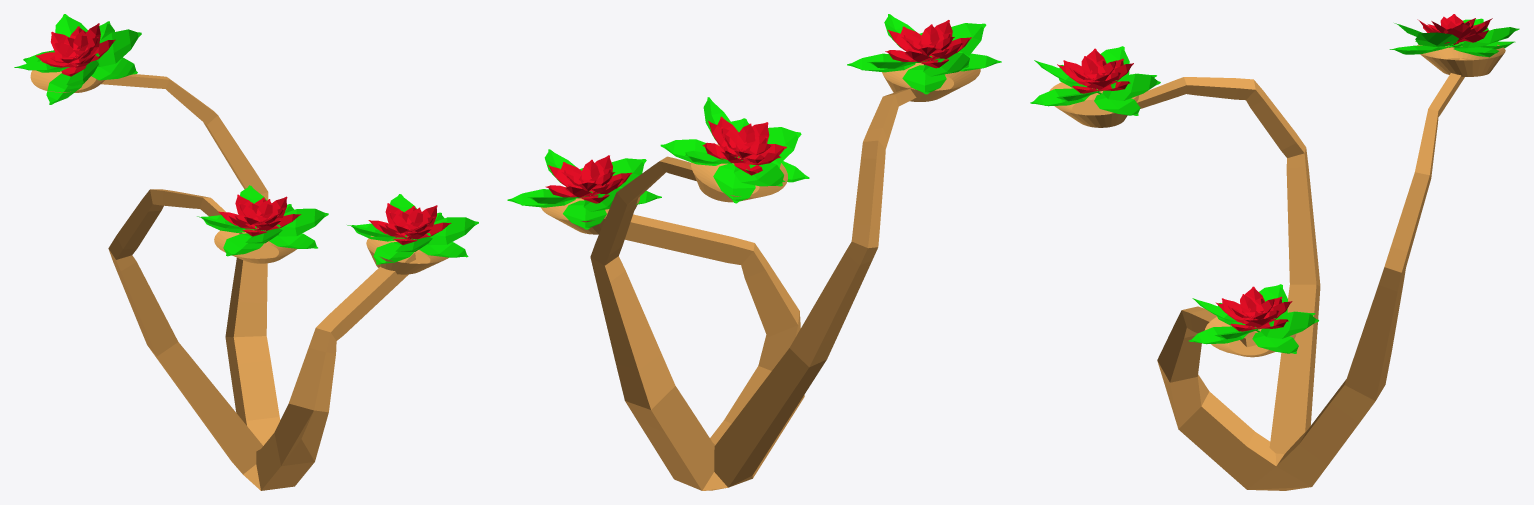
The model's file is Melaleuka skrętolistna.fbx.
The picture shows the model from 3 angles, left to right: view 1: azimuth 30°, elevation 25°; view 2: azimuth 150°, elevation 25°; view 3: azimuth 270°, elevation 25°; orthographic projection. The views are drawn at different scales.
Visible parts, largest first — view 1: Cube, Plane.002, Plane.001, Plane.004, Cylinder.001, Cylinder.002, Cylinder; view 2: Cube, Plane.002, Plane.001, Plane.004, Cylinder.002, Cylinder, Cylinder.001; view 3: Cube, Plane.001, Plane.004, Plane.002, Cylinder, Cylinder.002, Cylinder.001.
Part boxes in pixels (x1=…): Cube: x1=101, y1=74, x2=415, y2=490; Plane.002: x1=14, y1=14, x2=141, y2=104; Plane.001: x1=197, y1=185, x2=328, y2=256; Plane.004: x1=347, y1=194, x2=478, y2=264; Cylinder.001: x1=366, y1=236, x2=448, y2=274; Cylinder.002: x1=214, y1=228, x2=296, y2=263; Cylinder: x1=30, y1=65, x2=104, y2=92; Cube: x1=590, y1=87, x2=916, y2=490; Plane.002: x1=660, y1=97, x2=809, y2=203; Plane.001: x1=847, y1=14, x2=1001, y2=94; Plane.004: x1=507, y1=149, x2=661, y2=229; Cylinder.002: x1=882, y1=51, x2=980, y2=101; Cylinder: x1=691, y1=144, x2=787, y2=202; Cylinder.001: x1=541, y1=187, x2=639, y2=234; Cube: x1=1131, y1=58, x2=1466, y2=490; Plane.001: x1=1030, y1=46, x2=1160, y2=115; Plane.004: x1=1188, y1=284, x2=1318, y2=353; Plane.002: x1=1389, y1=14, x2=1519, y2=57; Cylinder: x1=1417, y1=43, x2=1505, y2=76; Cylinder.002: x1=1049, y1=82, x2=1138, y2=127; Cylinder.001: x1=1204, y1=317, x2=1296, y2=357.
Size of the model in its own units: 358 by 421 by 437.
